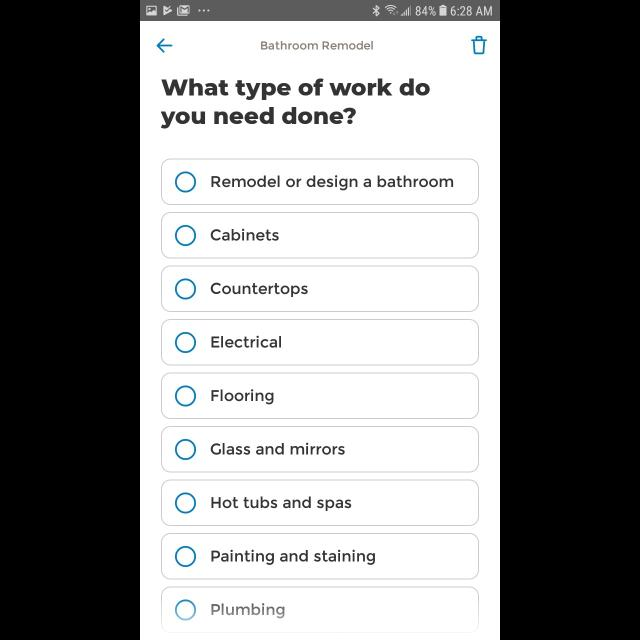checkbox: (175, 172, 195, 192), (175, 225, 195, 245), (175, 279, 195, 299), (175, 332, 195, 352), (175, 386, 195, 406), (175, 439, 195, 459), (175, 493, 195, 513), (175, 546, 195, 566), (175, 600, 195, 620)
icon: (471, 36, 487, 56), (156, 38, 174, 54)
text: (162, 78, 430, 130), (211, 176, 453, 190), (211, 549, 375, 565), (212, 496, 352, 512), (210, 442, 346, 456), (211, 282, 309, 298), (212, 603, 284, 619), (262, 41, 374, 51), (212, 389, 274, 405), (210, 228, 280, 242), (211, 336, 281, 348)
uppertaskbar: (140, 1, 500, 22)
